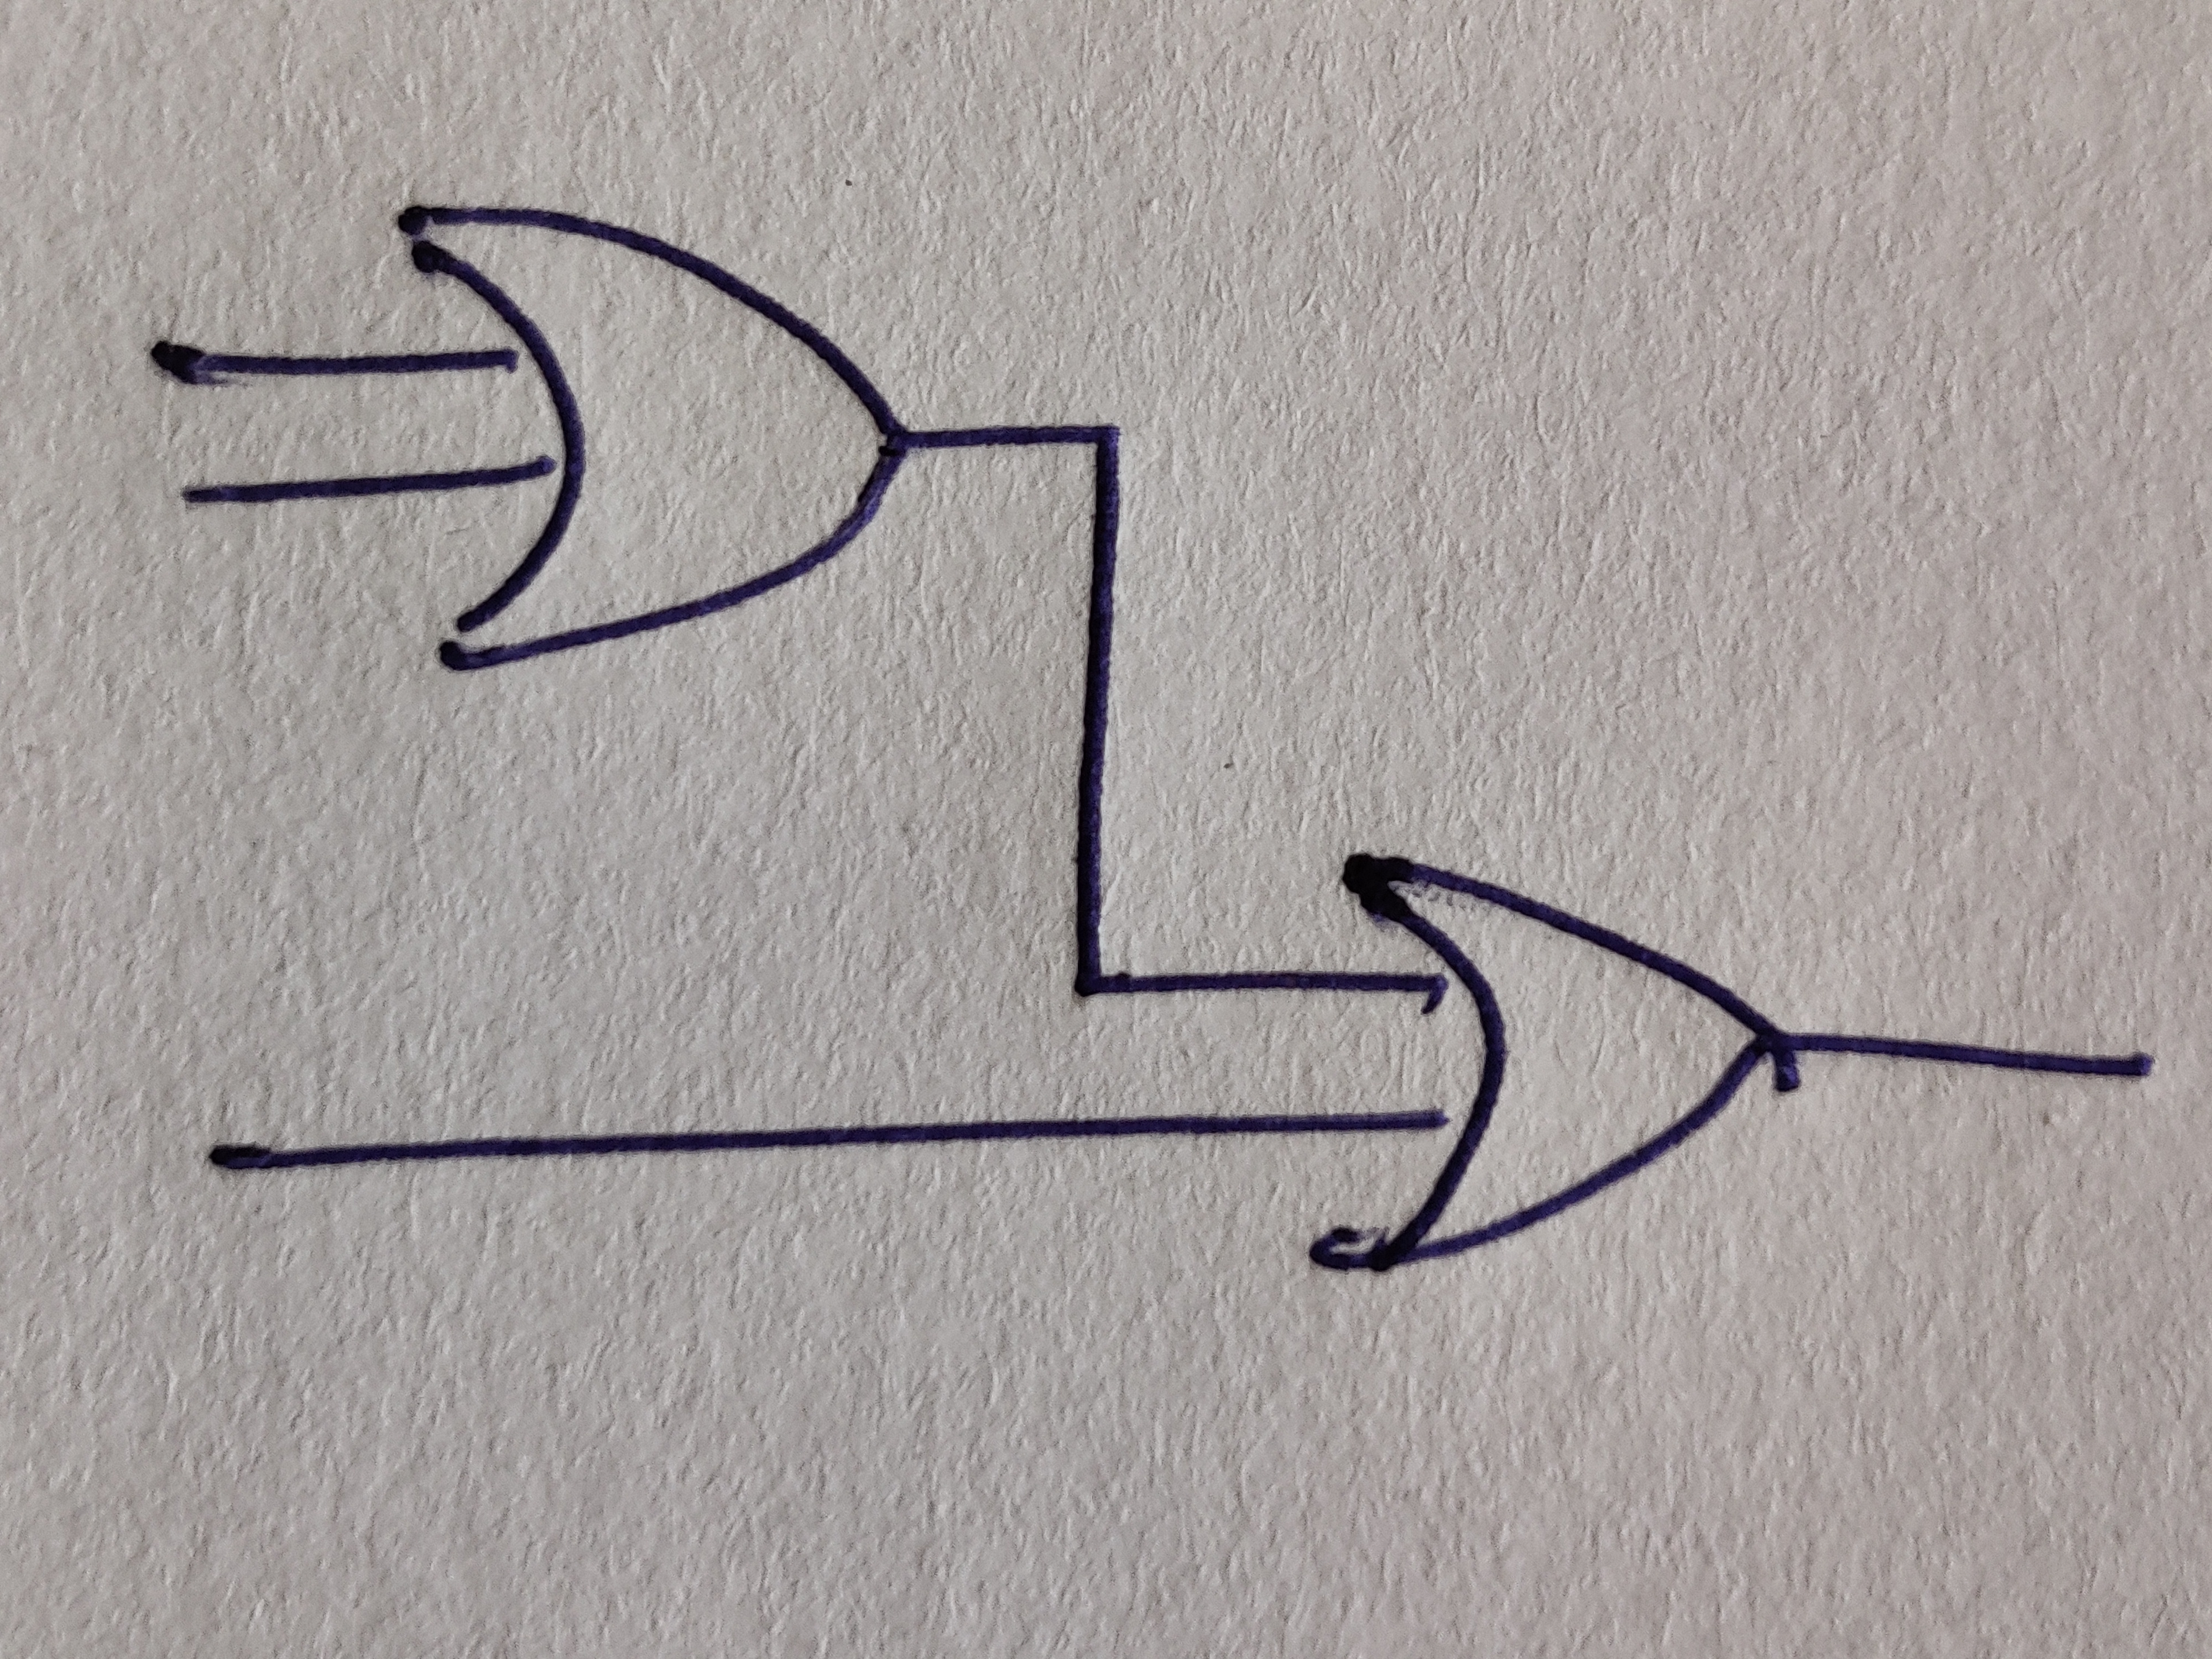or: (394, 207, 911, 669), (1310, 856, 1768, 1274)
